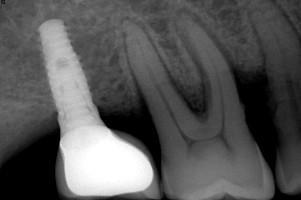Endo-Periodontal Lesion: (171, 80, 208, 118)
